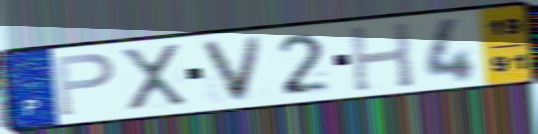2: (276, 32, 333, 97)
4: (422, 15, 480, 84)
H: (346, 20, 417, 94)
P: (52, 51, 118, 119)
V: (196, 33, 268, 104)
X: (117, 42, 191, 114)
